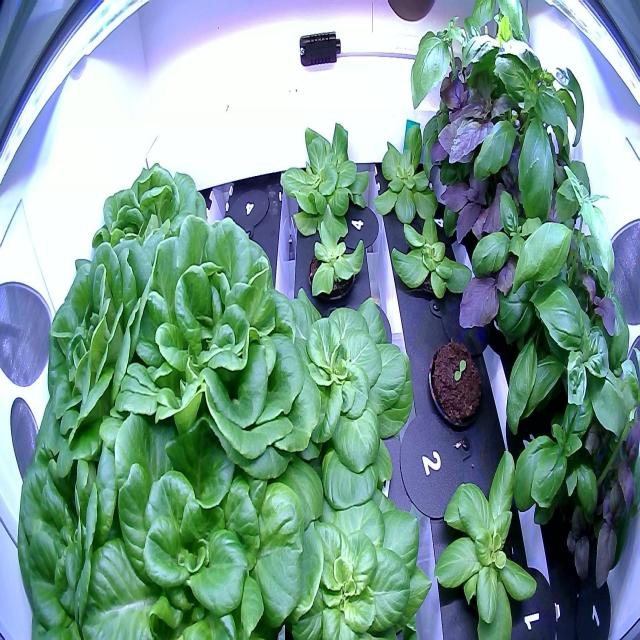Ready: (76, 399, 330, 637), (110, 210, 320, 482), (28, 236, 180, 487), (8, 425, 162, 638), (82, 160, 214, 295)
empty_pod: (225, 170, 270, 241)
germination: (425, 326, 488, 434)
young: (268, 296, 420, 516), (270, 457, 438, 640), (429, 438, 542, 640), (275, 111, 378, 243), (368, 112, 450, 229), (386, 208, 475, 314), (296, 202, 368, 311)
